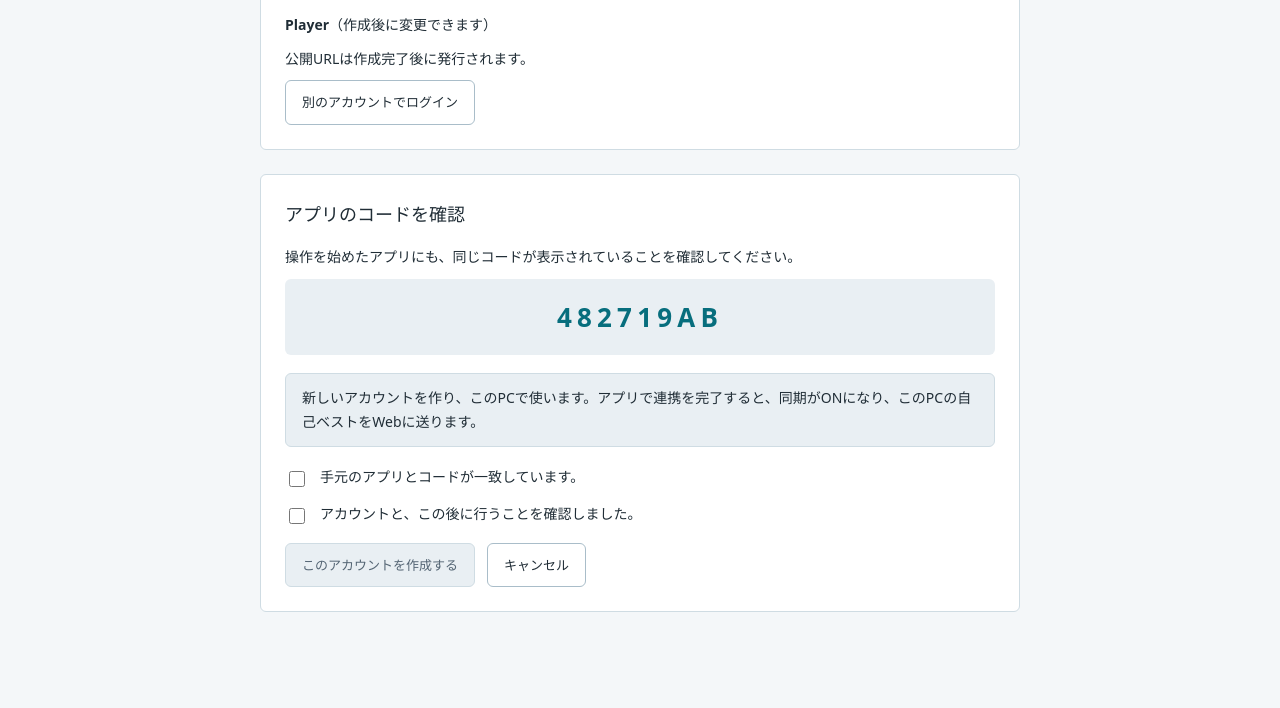
Test: Web management › requires two unchecked confirmations and keeps APPROVED separate from activation
(page scrolled)
Check: the checkbox labelled "アカウントと、この後に行うことを確認しました。" is not checked, box [289,508,305,524]
Check: the button "このアカウントを作成する" is disabled, box [285,543,475,587]
Click the checkbox labelled "手元のアプリとコードが一致しています。". click: click(297, 479)
box: [289,471,305,487]
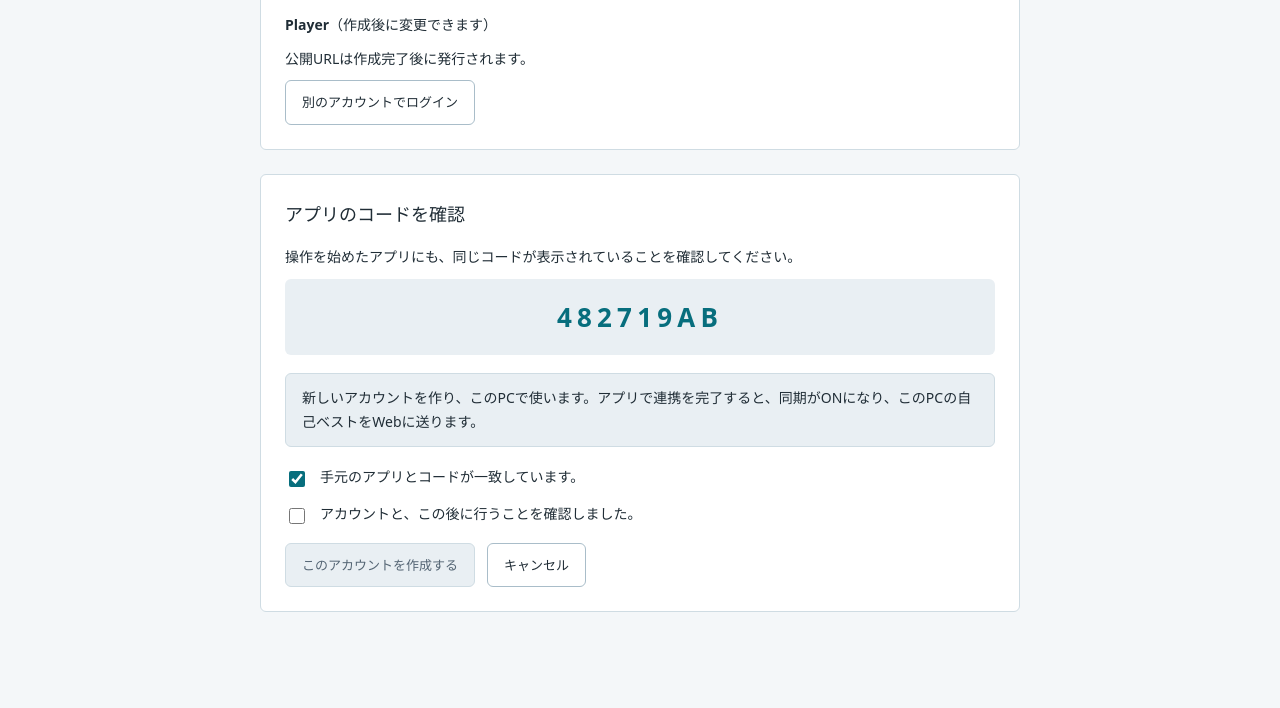
Check: the button "このアカウントを作成する" is disabled, box [285,543,475,587]
Click the checkbox labelled "アカウントと、この後に行うことを確認しました。". click: click(297, 516)
box: [289,508,305,524]
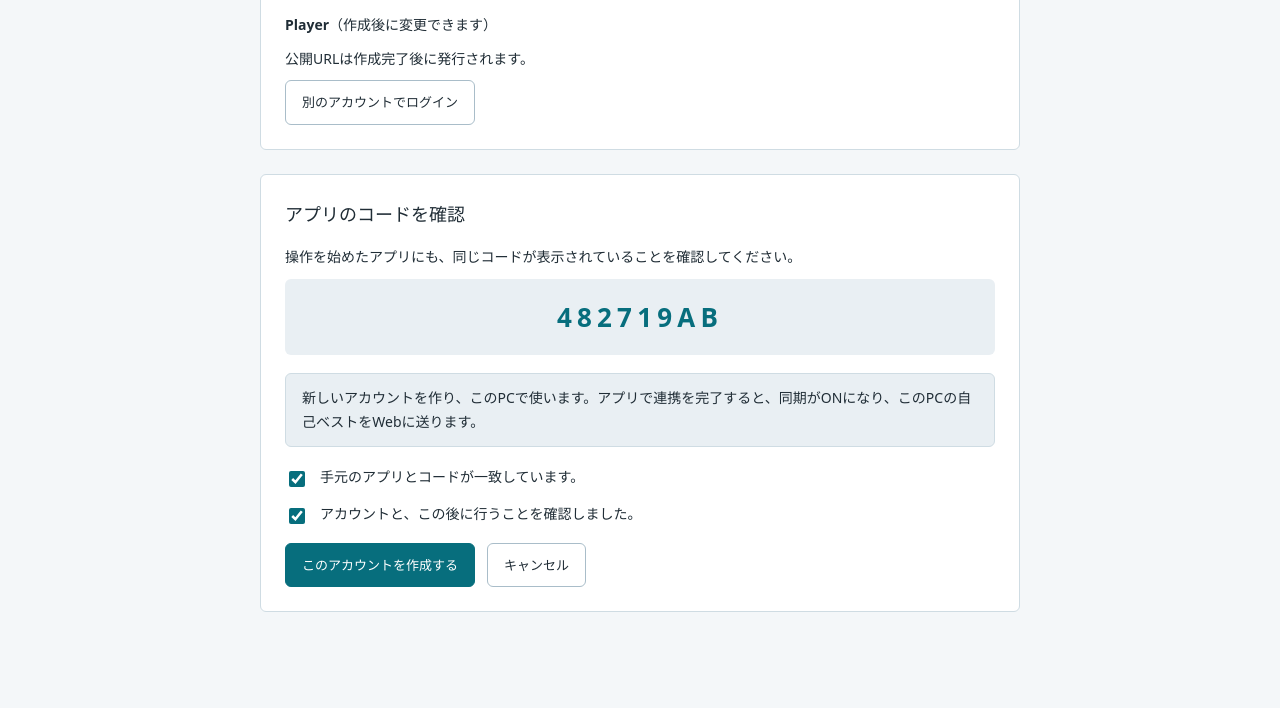
Check: the button "このアカウントを作成する" is enabled
Click the button "このアカウントを作成する". click: click(380, 565)
box: [285,543,475,587]
(page scrolled)
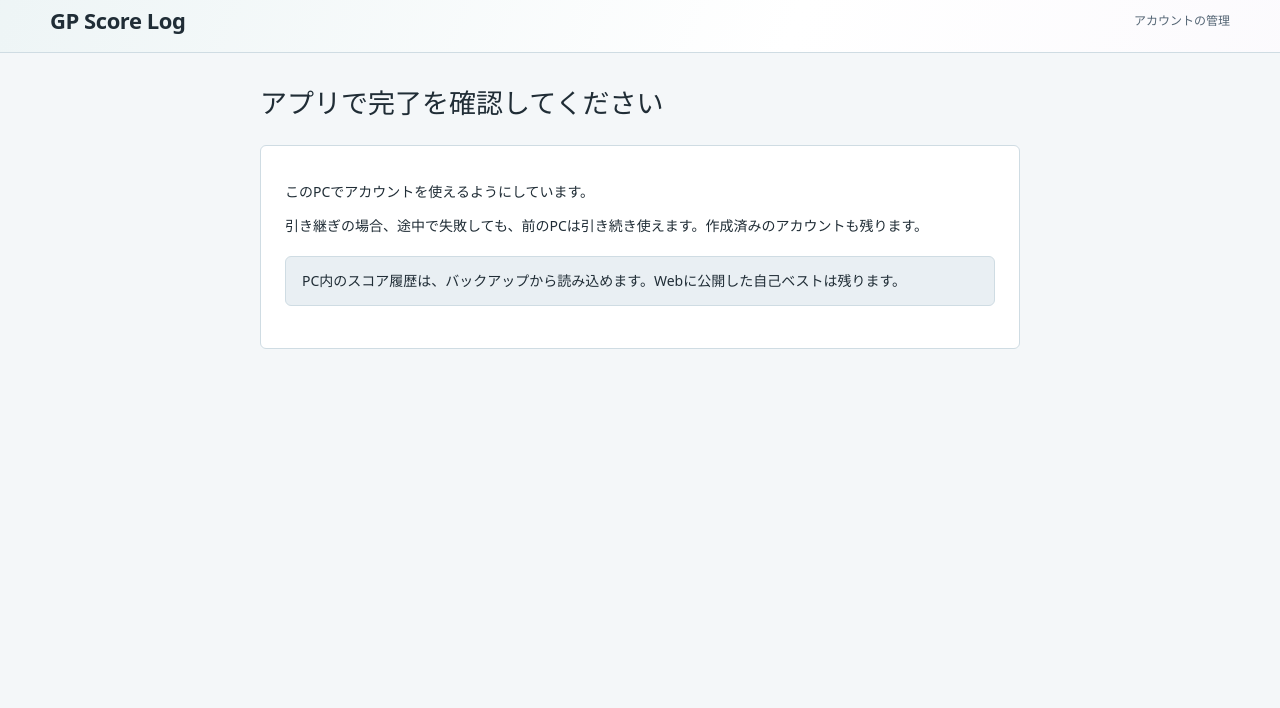
Check: the heading "アプリで完了を確認してください" is shown, box [260,84,663,121]
